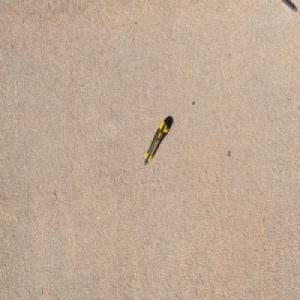Cutter: (144, 116, 172, 165)
